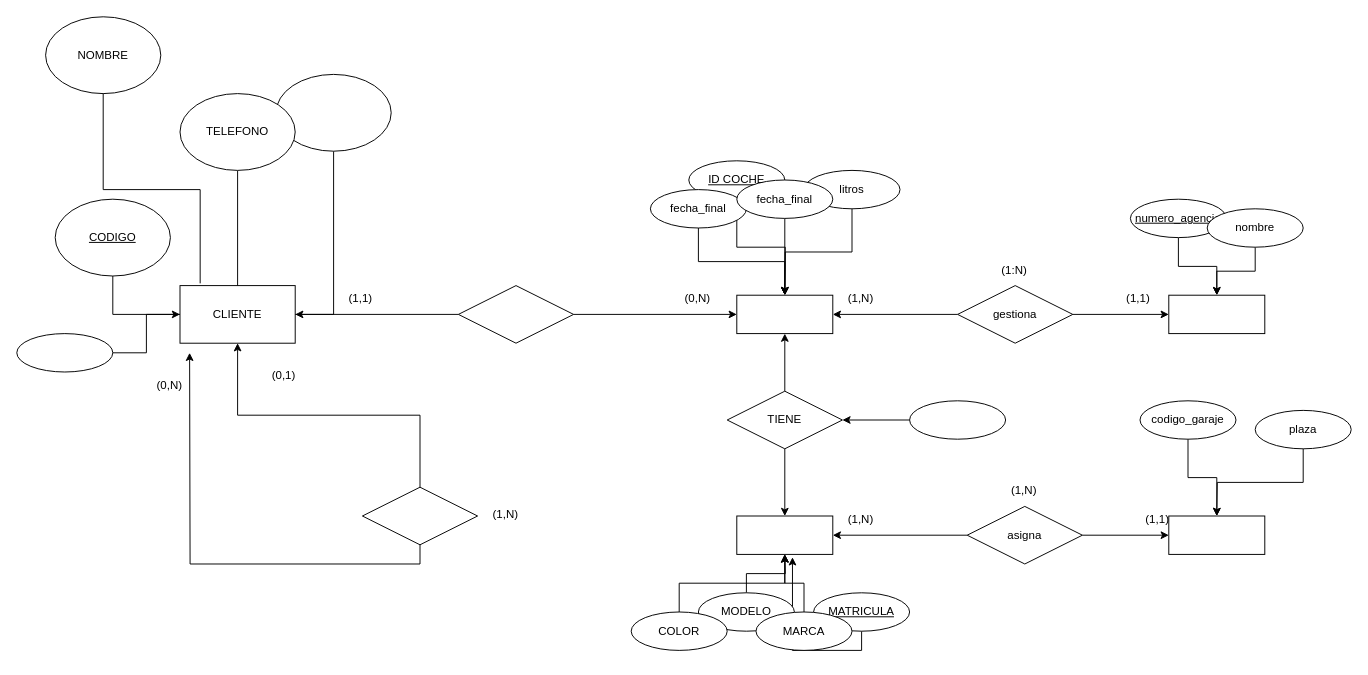
This 1368x675 diagram has some shape labels left out. Here are the shapes that lost their labels. From the top down, the box of each, then its label:
(275, 73, 391, 151): DIRECCION
(457, 285, 574, 343): REALIZA
(736, 294, 833, 334): RESERVA
(1168, 294, 1265, 334): agencia
(16, 333, 113, 372): DNI
(909, 400, 1006, 439): precio_alquiler
(361, 486, 478, 545): AVALAR
(736, 515, 833, 554): COCHE
(1168, 515, 1265, 554): garaje
